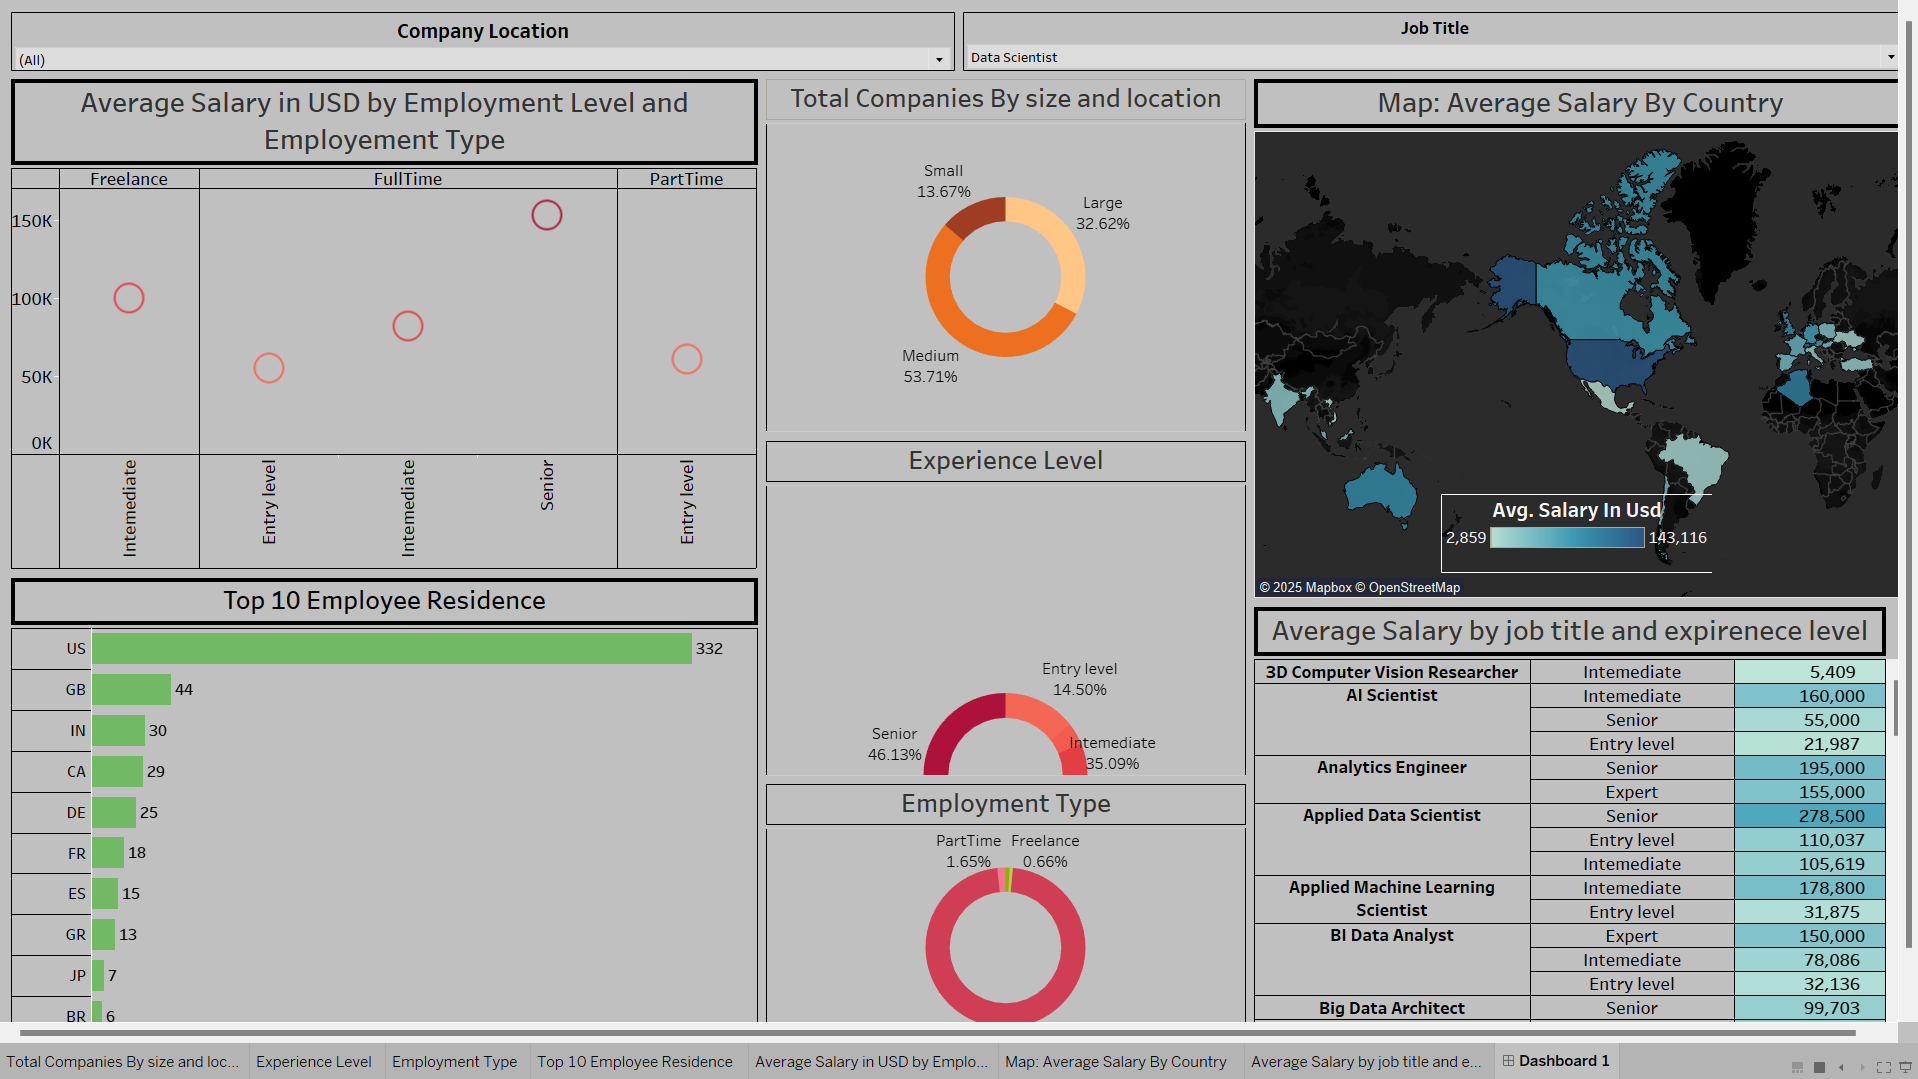

This screenshot's page, from the dashboard's own definition file:
{"tool":"tableau","page":{"name":"Dashboard 1","canvas":[1920,1080],"ordinal":0},"visuals":[{"type":"filter","title":"Average Salary in USD by Employment Level and Employement Type","param":"[federated.016a9ul1qicy351546g0k1xcxor2].[none:company_location:nk]","box":[8,8,952,67.4]},{"type":"filter","title":"Map: Average Salary By Country","param":"[federated.016a9ul1qicy351546g0k1xcxor2].[none:job_title:nk]","box":[960,8,952,67.4]},{"type":"worksheet","title":"Average Salary in USD by Employment Level and Employement Type","mark":"Shape","rows":["salary_in_usd"],"cols":["employment_type","experience_level"],"box":[8,75.4,754.6,498.3]},{"type":"worksheet","title":"Total Companies By size and location","mark":"Pie","rows":["Calculation_894527483729887233","Calculation_894527483729887233"],"box":[762.6,75.4,487.9,361.2]},{"type":"worksheet","title":"Map: Average Salary By Country","mark":"Automatic","box":[1250.5,75.4,661.5,527.5]},{"type":"worksheet","title":"Experience Level","mark":"Pie","rows":["Calculation_894527483729887233","Calculation_894527483729887233"],"box":[762.6,436.6,487.9,343.3]},{"type":"legend","title":"Map: Average Salary By Country","param":"[federated.016a9ul1qicy351546g0k1xcxor2].[avg:salary_in_usd:qk]","box":[1441.8,494.1,271.5,79.2]},{"type":"worksheet","title":"Top 10 Employee Residence","mark":"Automatic","rows":["employee_residence"],"cols":["employee_residence"],"box":[8,573.7,754.6,498.3]},{"type":"worksheet","title":"Average Salary by job title and expirenece level","mark":"Square","rows":["job_title","experience_level"],"box":[1250.5,602.9,661.5,469.1]},{"type":"worksheet","title":"Employment Type","mark":"Pie","rows":["Calculation_894527483729887233","Calculation_894527483729887233"],"box":[762.6,779.9,487.9,292.1]}]}

Visuals, with their boxes in screenshot pixels (x1, y1, x2, y2):
"Average Salary in USD by Employment Level and Employement Type" filter: rect(18, 13, 956, 79)
"Map: Average Salary By Country" filter: rect(956, 13, 1894, 79)
"Average Salary in USD by Employment Level and Employement Type" worksheet (Shape marks): rect(18, 79, 761, 570)
"Total Companies By size and location" worksheet (Pie marks): rect(761, 79, 1242, 435)
"Map: Average Salary By Country" worksheet: rect(1242, 79, 1894, 599)
"Experience Level" worksheet (Pie marks): rect(761, 435, 1242, 773)
"Map: Average Salary By Country" legend: rect(1430, 492, 1698, 570)
"Top 10 Employee Residence" worksheet: rect(18, 570, 761, 1061)
"Average Salary by job title and expirenece level" worksheet (Square marks): rect(1242, 599, 1894, 1061)
"Employment Type" worksheet (Pie marks): rect(761, 773, 1242, 1061)
